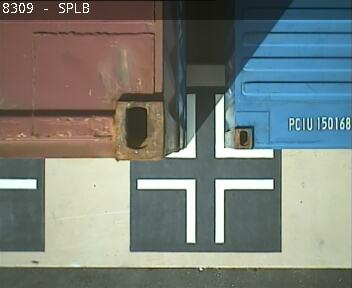groundmarker_1: (136, 178, 273, 244), (164, 95, 274, 160)
